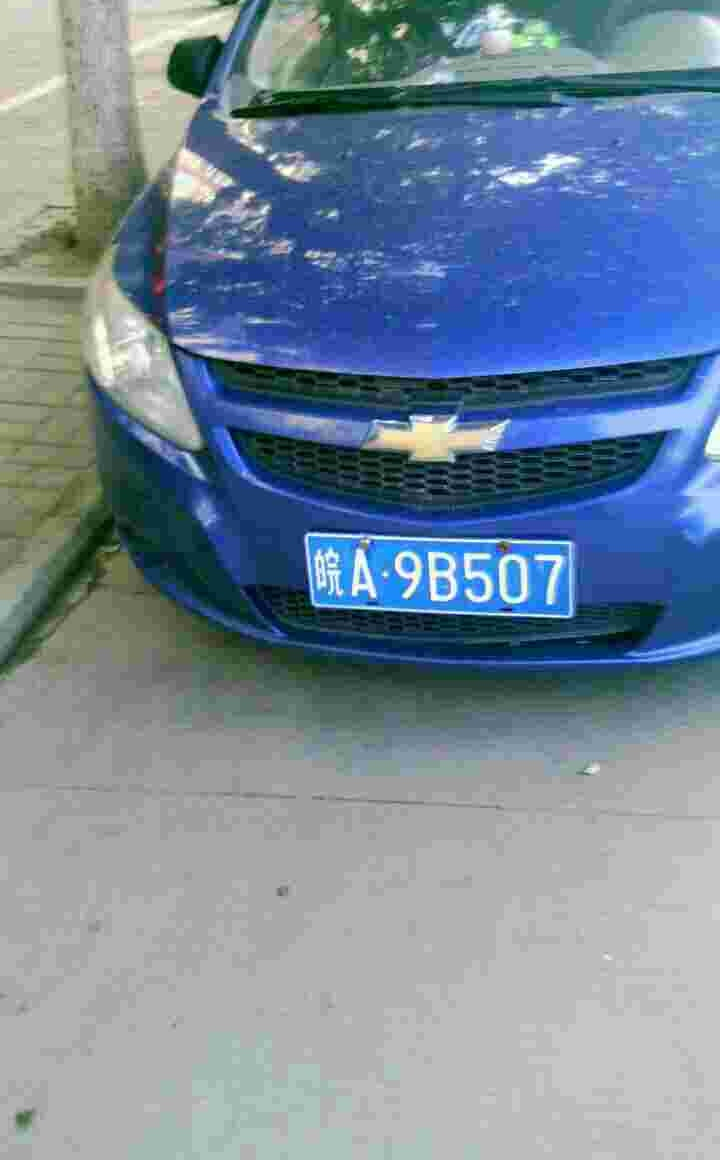plate: (304, 530, 581, 622)
